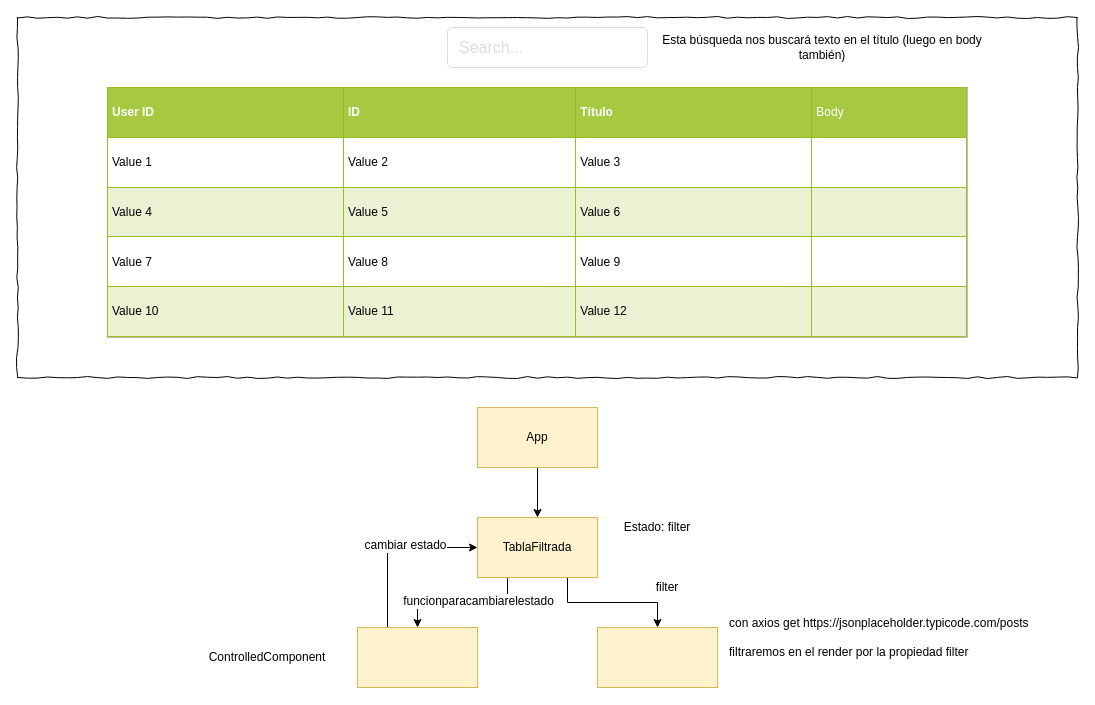
Image size: 1095x705. Some labels were removed from this diagram. Here are the shapes that lost their labels. From the top down, the centre of each, then its label:
pixel 417 657: Search
pixel 657 657: TablaPosts
